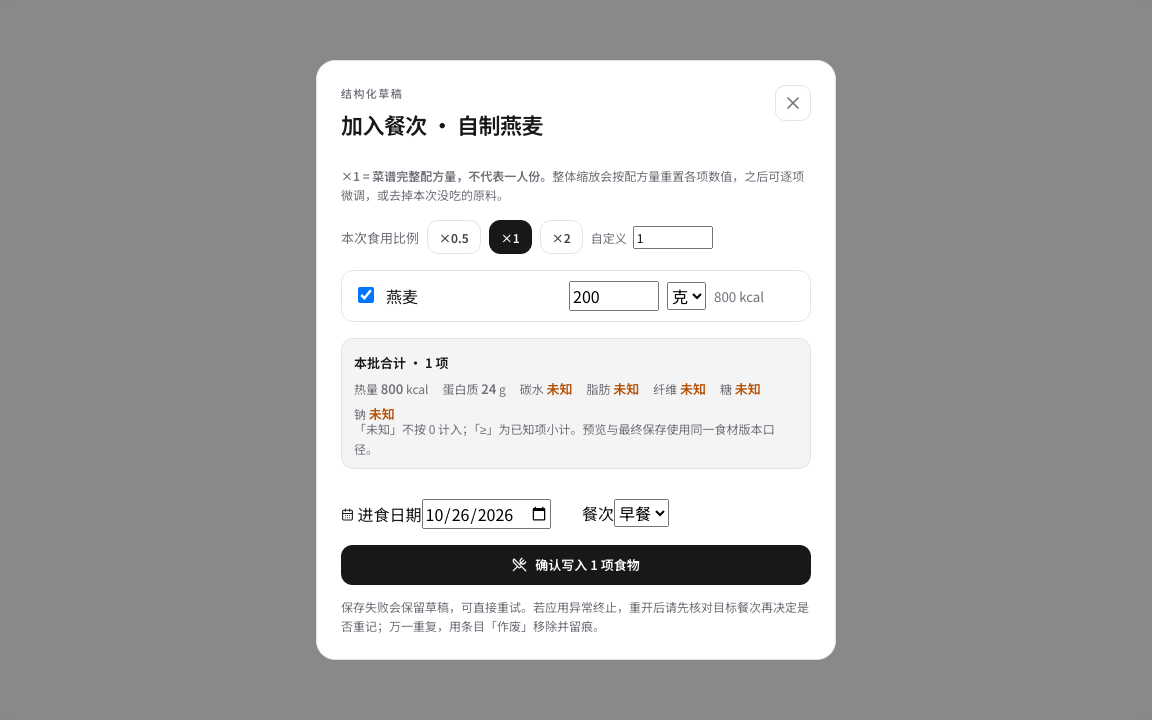
Test: scales the whole recipe by ×0.5 and ×2 and keeps the totals in sync
Click the button "×0.5": click(454, 237) [427,220,481,254]
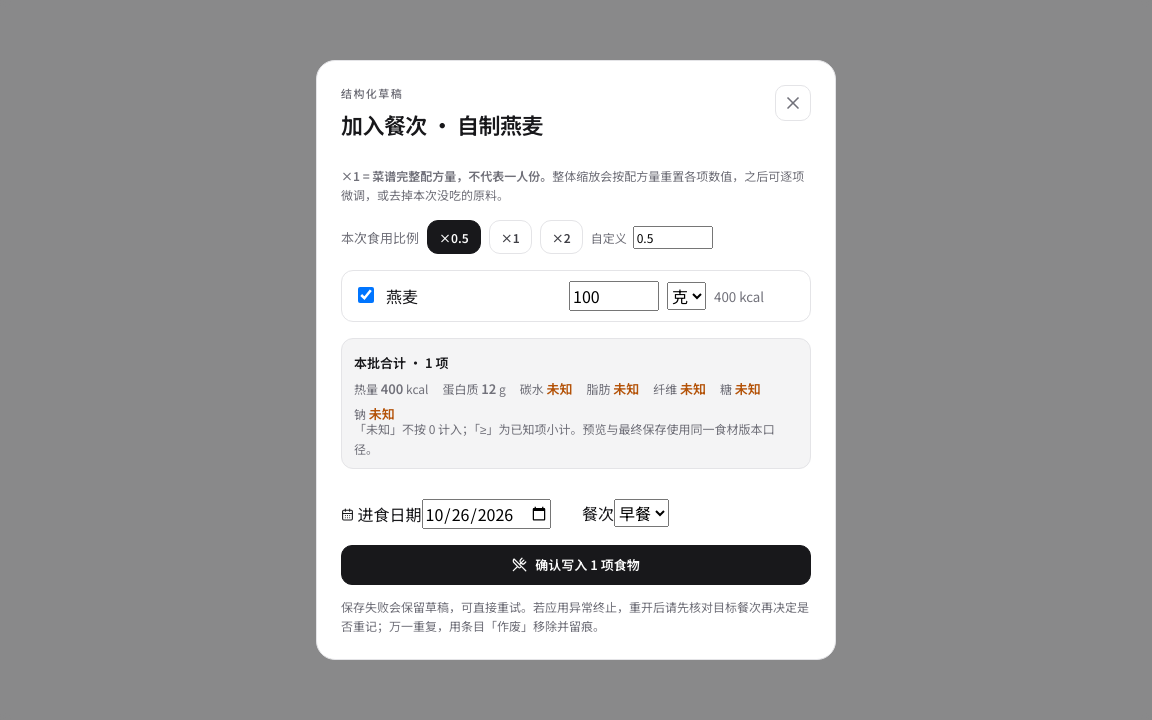
Check: the number field named "燕麦数量" holds "100", box [569,281,659,311]
Check: the element named "本批营养合计" shows "400", box [381,379,403,398]
Check: the element named "本批营养合计" shows "12", box [481,379,496,398]
Click the button "×2": click(561, 237) [540,220,583,254]
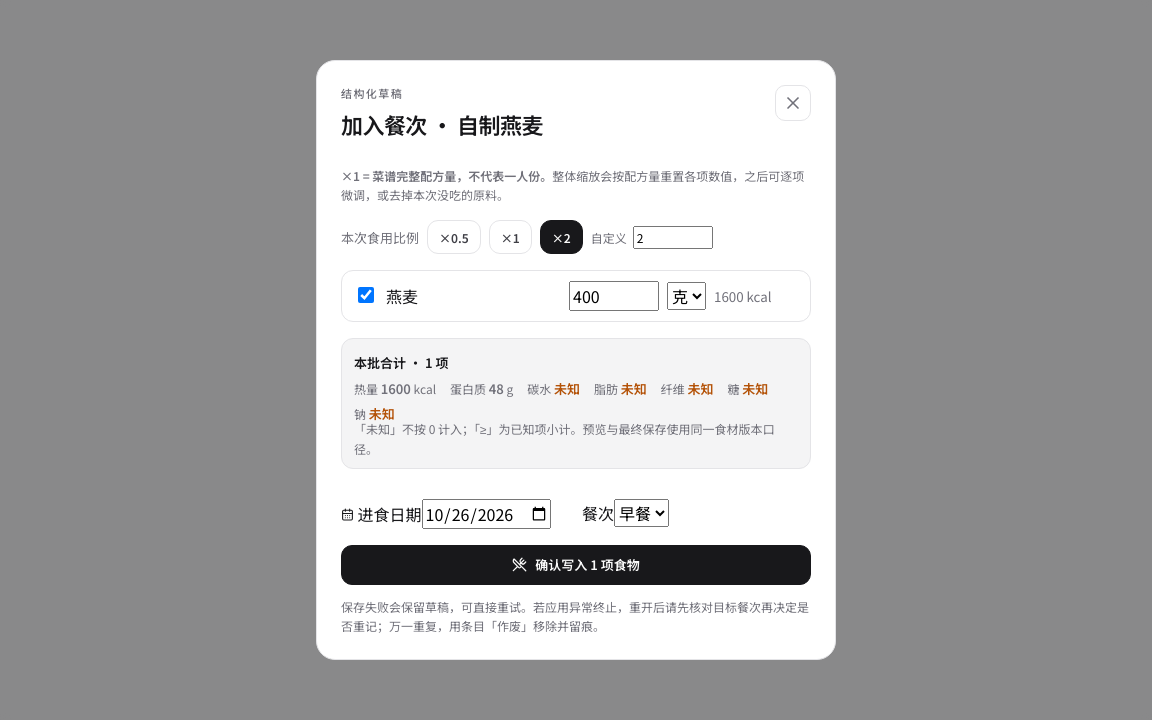
Check: the number field named "燕麦数量" holds "400", box [569,281,659,311]
Check: the element named "本批营养合计" shows "1600", box [381,379,411,398]
Check: the element named "本批营养合计" shows "48", box [489,379,504,398]
